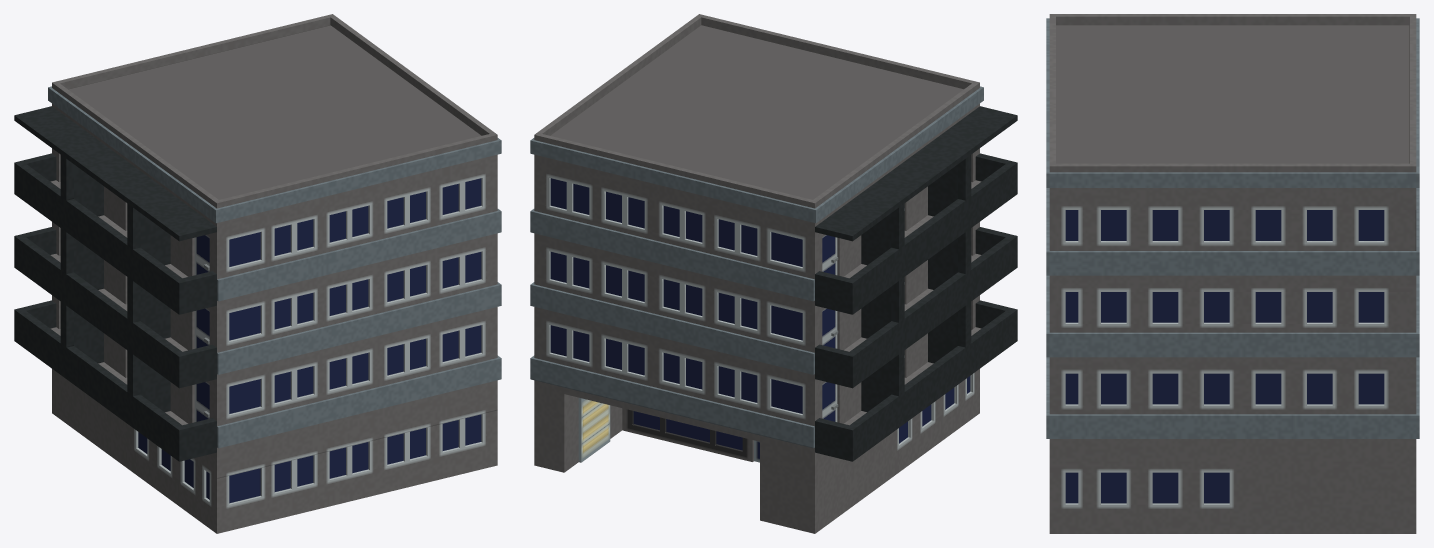
File: dom_protagonisty.dae
The picture shows the model from 3 angles, left to right: view 1: azimuth 30°, elevation 25°; view 2: azimuth 150°, elevation 25°; view 3: azimuth 270°, elevation 25°; orthographic projection. The views are drawn at different scales.
Parts seen in each view (by area): view 1: Content; view 2: Content; view 3: Content.
Boxes of the visible parts, left/top/right/bottom form: Content: left=14, top=14, right=501, bottom=533; Content: left=530, top=14, right=1017, bottom=533; Content: left=1046, top=14, right=1419, bottom=533.
Size of the model in its own units: 128 by 126 by 116.
Materials: 1 (1 with a texture image).
